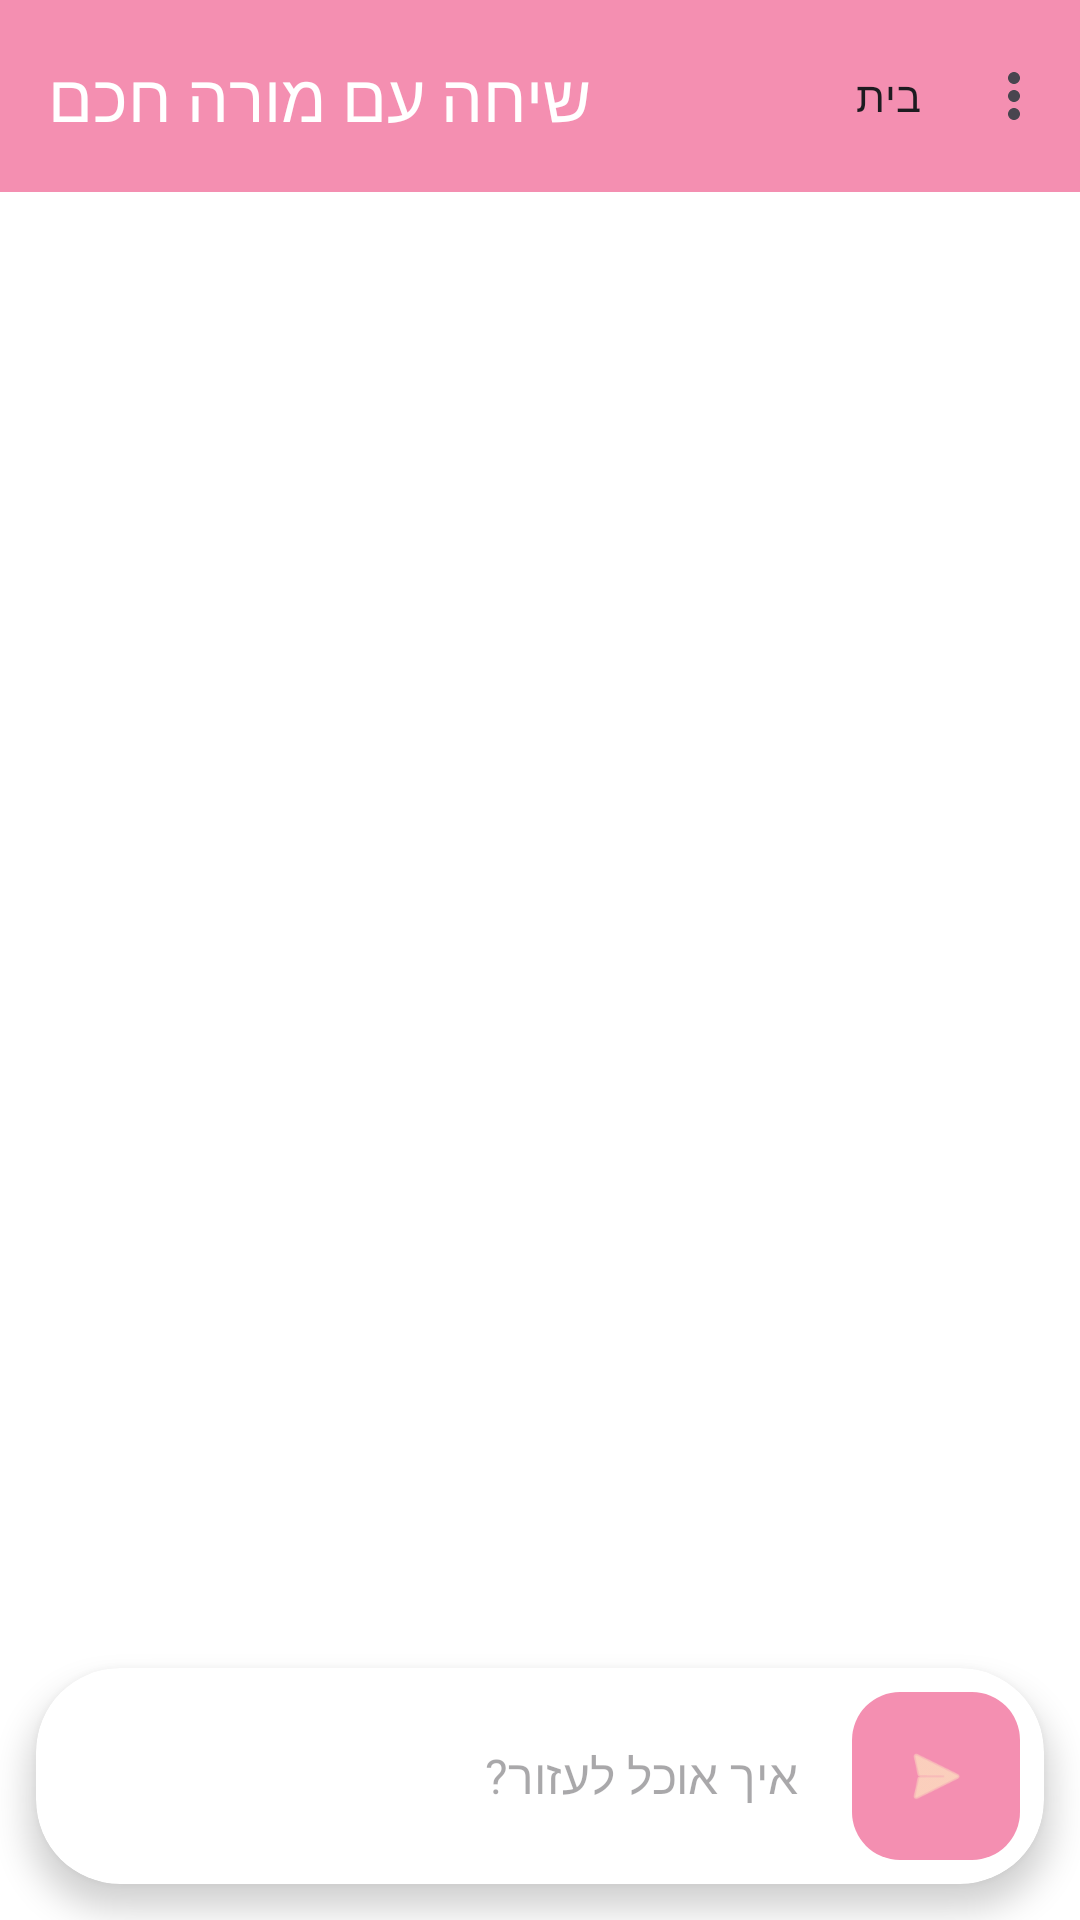

Where icons sit on this 1080 x 1920 app screen, as (x1, y1, x2, y2):
send: (852, 1692, 1020, 1860)
